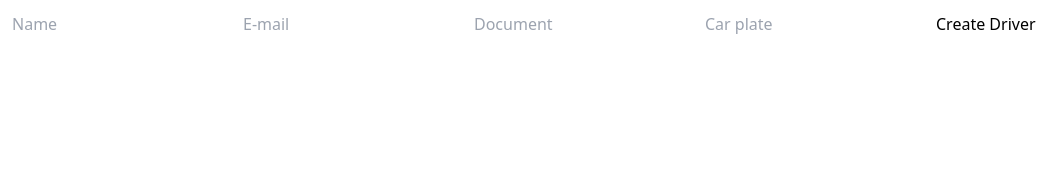
it: Create Driver Integration Test › should not be able create a driver with document invalid
Step 1. Type "John Doe" into the field with class "driver-name" → coordinates (128, 24), box top-left (12, 12), bottom-right (243, 36)
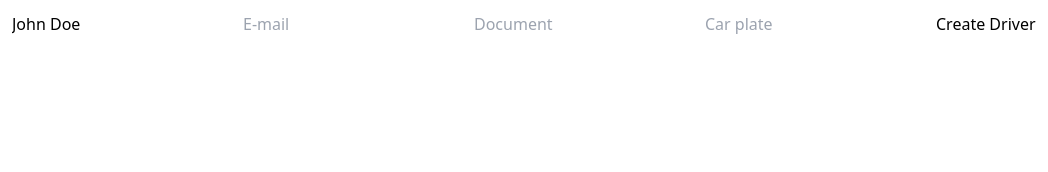
Step 2. Type "john.doe@gmail.com" into the field with class "driver-email" → coordinates (358, 24), box top-left (243, 12), bottom-right (474, 36)
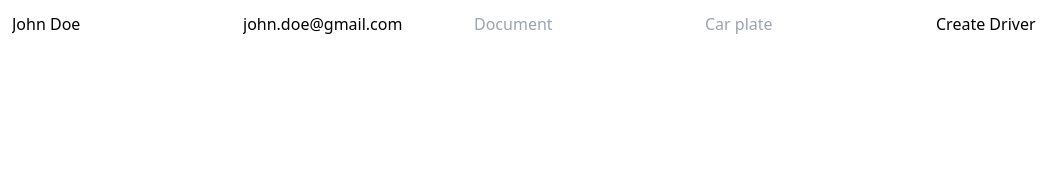
Step 3. Type "83432616075" into the field with class "driver-document" → coordinates (590, 24), box top-left (474, 12), bottom-right (705, 36)
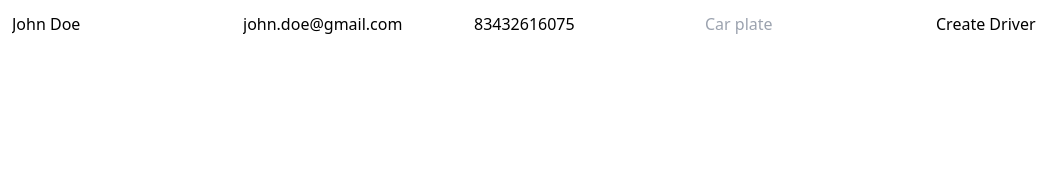
Step 4. Type "AAA9999" into the field with class "driver-carPlate" → coordinates (820, 24), box top-left (705, 12), bottom-right (936, 36)
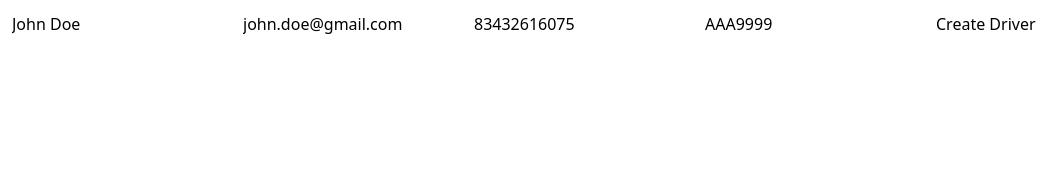
Step 5. Click the button with class "create-driver" → coordinates (986, 24), box top-left (936, 12), bottom-right (1036, 36)
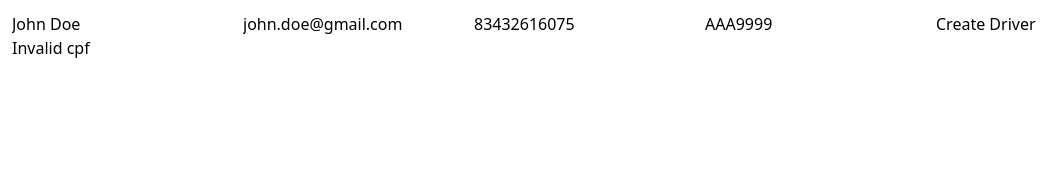
Check: the text with class "error" reads "Invalid cpf", box top-left (12, 37), bottom-right (90, 59)
